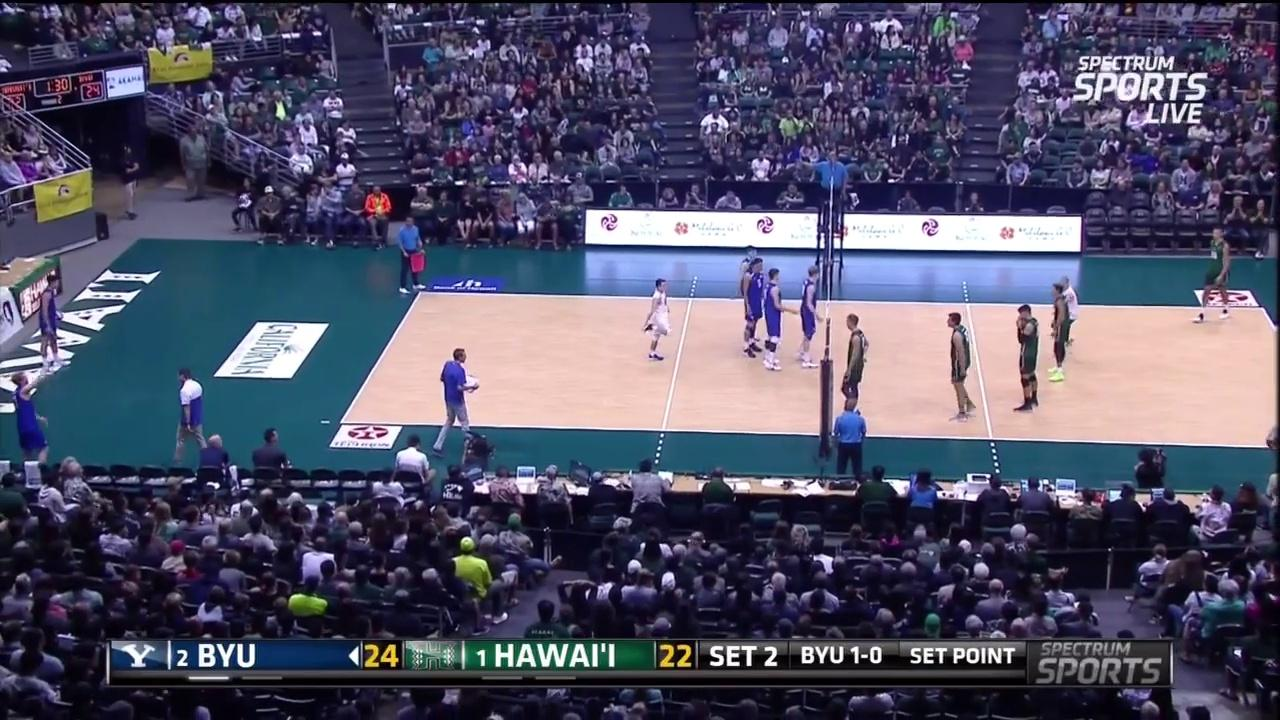player: (1189, 226, 1236, 323), (945, 311, 982, 419), (34, 271, 69, 368), (1013, 304, 1043, 412), (838, 313, 867, 416), (1046, 281, 1074, 384), (796, 265, 823, 369), (737, 258, 764, 362), (762, 266, 787, 376), (645, 277, 674, 362), (739, 241, 763, 341), (1051, 276, 1081, 347)
refree: (806, 151, 852, 231), (396, 214, 430, 292), (834, 399, 868, 474)
